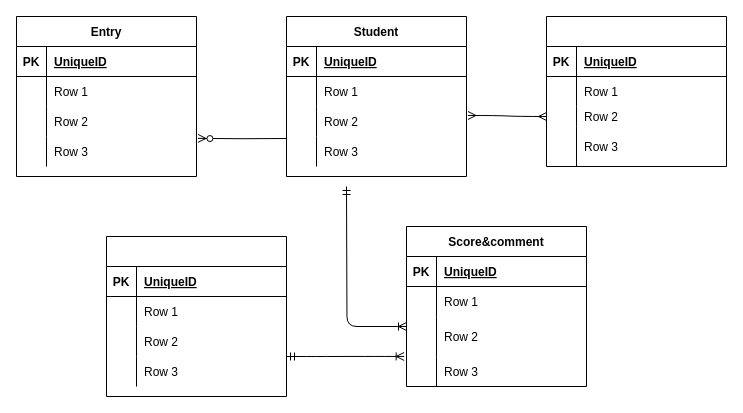
Image size: 743x413. Some labels were removed from this diagram. Here are the shapes that lost their labels. From the top down, the box of each, then its label:
(546, 16, 726, 166): Subject
(106, 236, 286, 396): Teacher
